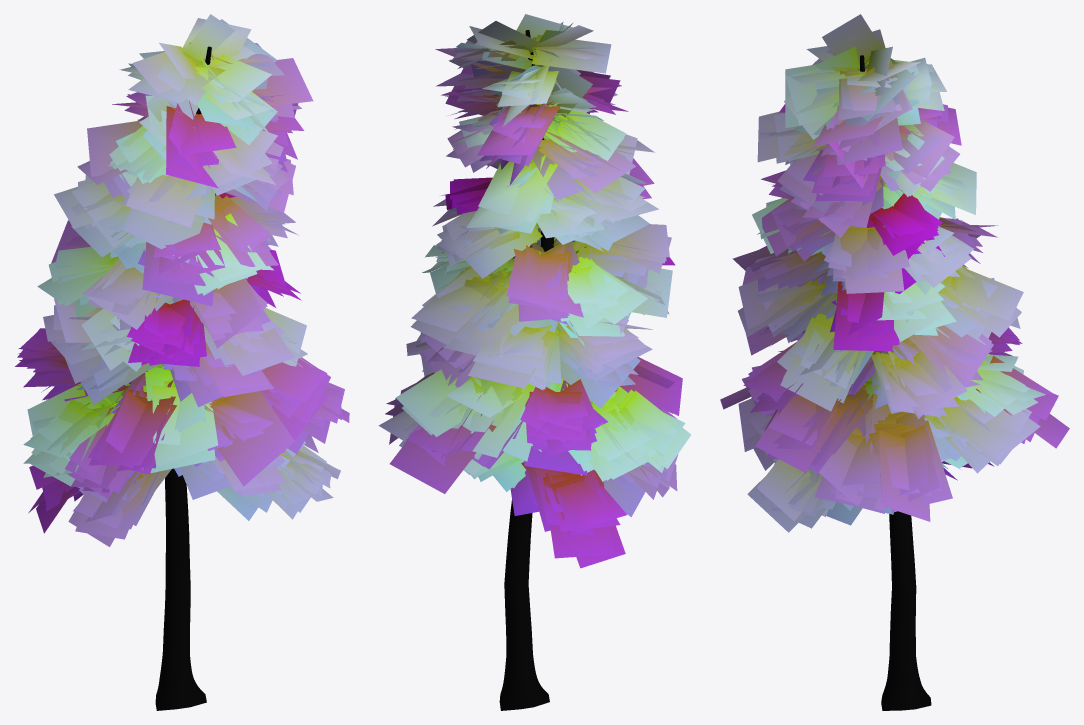
Rendered from tree_cedar_b.glb.
The picture shows the model from 3 angles, left to right: view 1: azimuth 30°, elevation 25°; view 2: azimuth 150°, elevation 25°; view 3: azimuth 270°, elevation 25°; orthographic projection. The views are drawn at different scales.
Parts seen in each view (by area): view 1: tree_cedar_b; view 2: tree_cedar_b; view 3: tree_cedar_b.
Part boxes in pixels (left/top/right/bottom): tree_cedar_b: left=15, top=14, right=349, bottom=710; tree_cedar_b: left=378, top=14, right=691, bottom=710; tree_cedar_b: left=720, top=14, right=1069, bottom=710.
Size of the model in its own units: 12.27 by 27.75 by 13.12.
